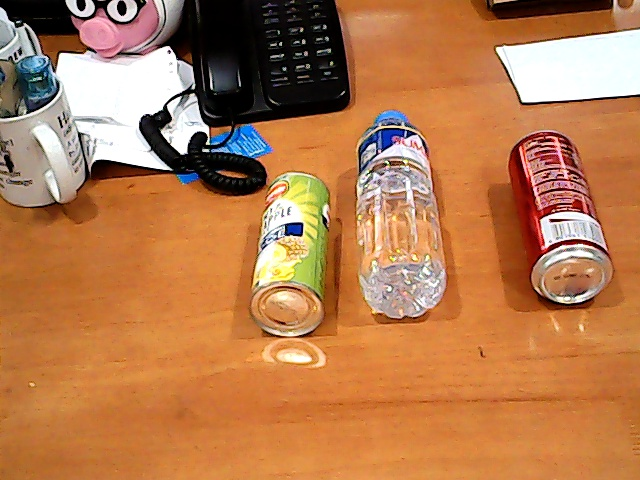Cola: (491, 118, 636, 321)
Pine Juice: (235, 162, 344, 353)
Summit Water: (346, 96, 465, 332)
